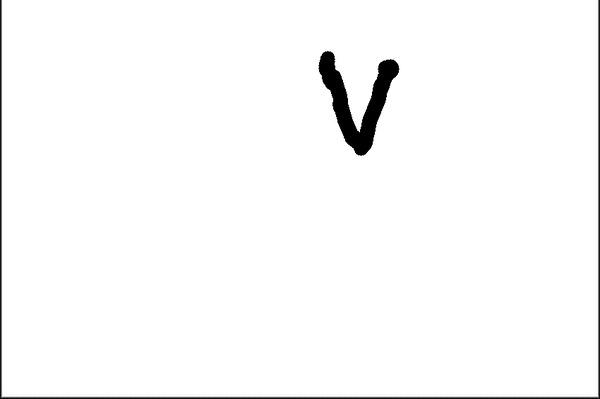V: (309, 49, 414, 158)
